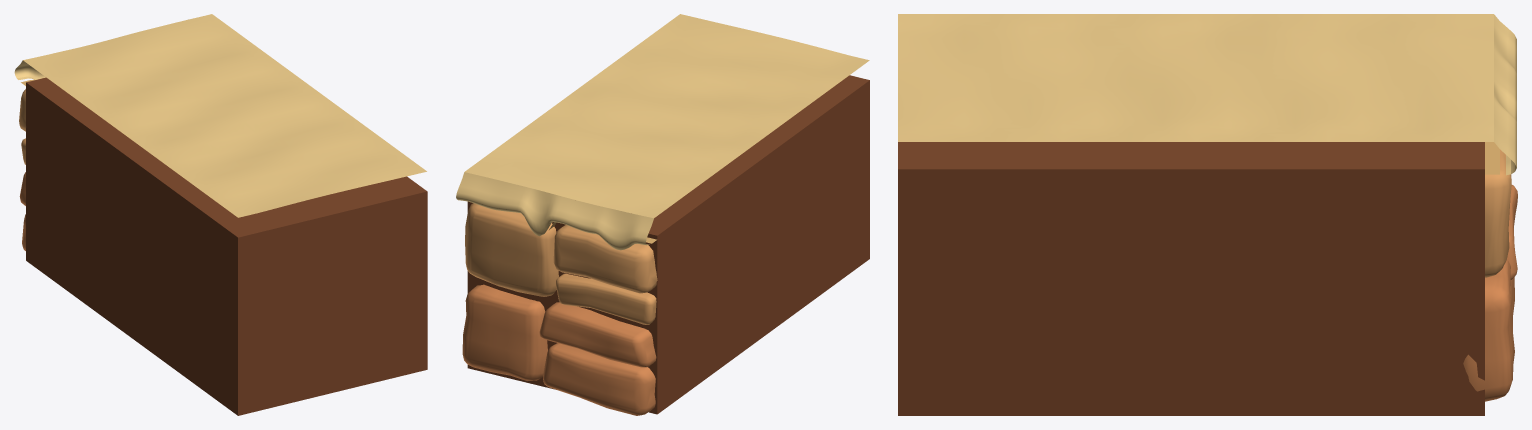
The model's file is SD_G11_Sandstone_Core.fbx.
3 views of the same model, side by side, from view 1: azimuth 30°, elevation 25°; view 2: azimuth 150°, elevation 25°; view 3: azimuth 270°, elevation 25° (orthographic). The views are drawn at different scales.
Parts seen in each view (by area): view 1: SD_G11_Sandstone_Core; view 2: SD_G11_Sandstone_Core; view 3: SD_G11_Sandstone_Core.
Part boxes in pixels (x1,y1,x2,y2): SD_G11_Sandstone_Core: [14, 14, 427, 415]; SD_G11_Sandstone_Core: [456, 14, 869, 415]; SD_G11_Sandstone_Core: [898, 14, 1517, 415].
Size of the model in its own units: 202 by 202 by 410.
